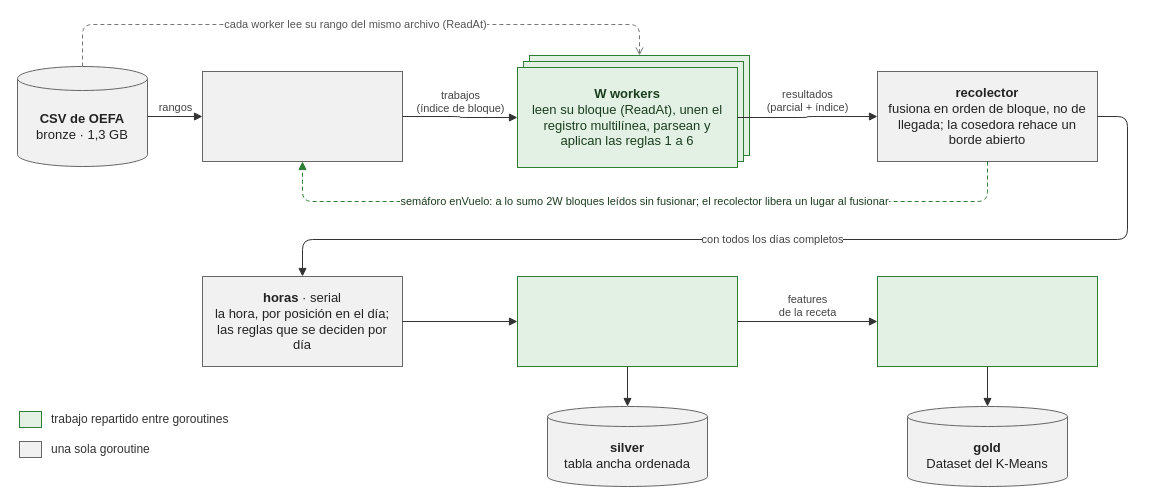
Some shapes in this 1153 by 504 pixel diagram are drawn without their labels. The centre of each missing label's shape, as x and y in pixels:
"pivot · paralelo una tarea por estación (regla 7); filas por fecha-hora" belongs at [627,321].
"productor bloques de B bytes (64 MiB), cortados en un salto de línea" belongs at [302,116].
"z-score · paralelo Welford por chunk; fusión de Chan en orden de chunk" belongs at [987,321].
